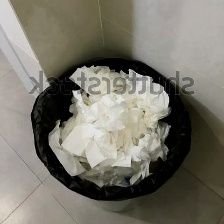tissue: (42, 59, 178, 191)
